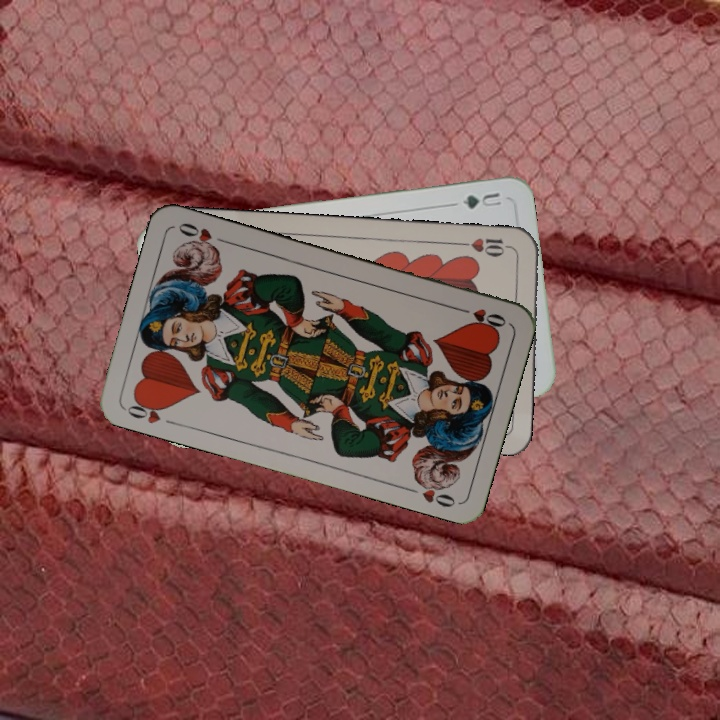GU: (458, 188, 504, 211)
H10: (457, 234, 516, 259)
HO: (123, 394, 179, 429), (452, 303, 509, 332)
